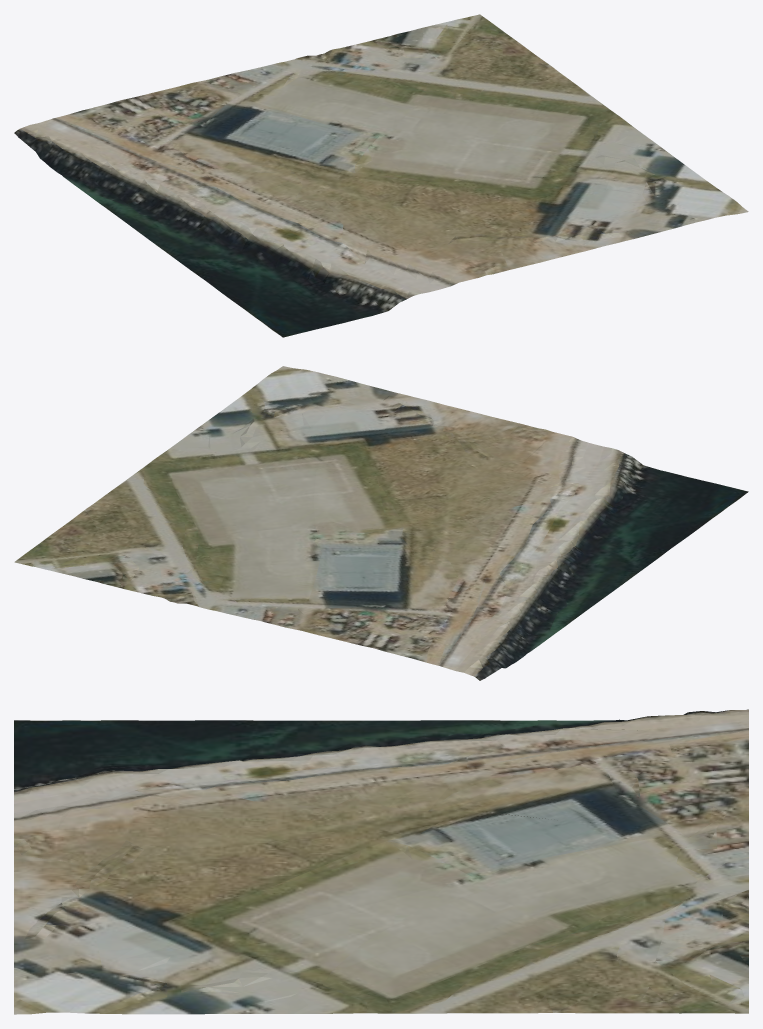
3 views of the same model, one above another, from view 1: azimuth 30°, elevation 25°; view 2: azimuth 150°, elevation 25°; view 3: azimuth 270°, elevation 25° (orthographic). The views are drawn at different scales.
Bounding box in the file's own units: 209 × 6.49 × 209.
2 materials, 2 textured.
